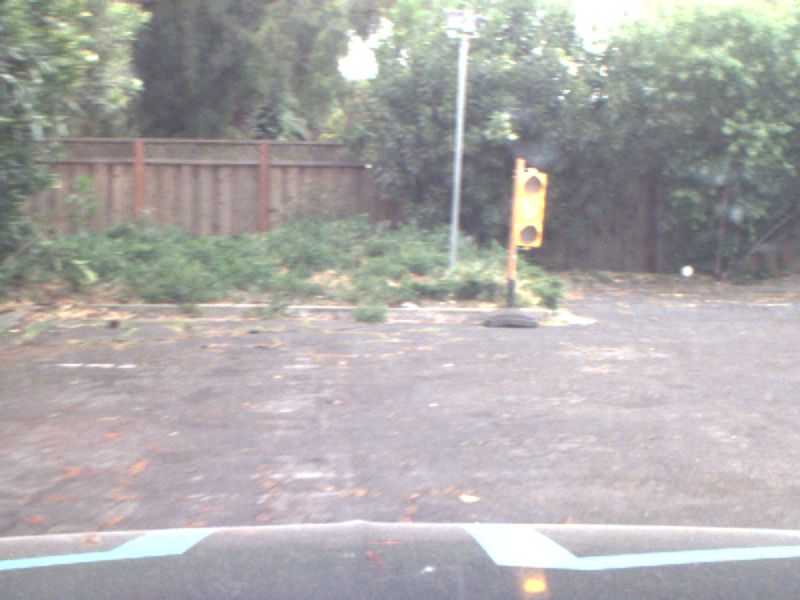Yellow: (513, 167, 542, 247)
